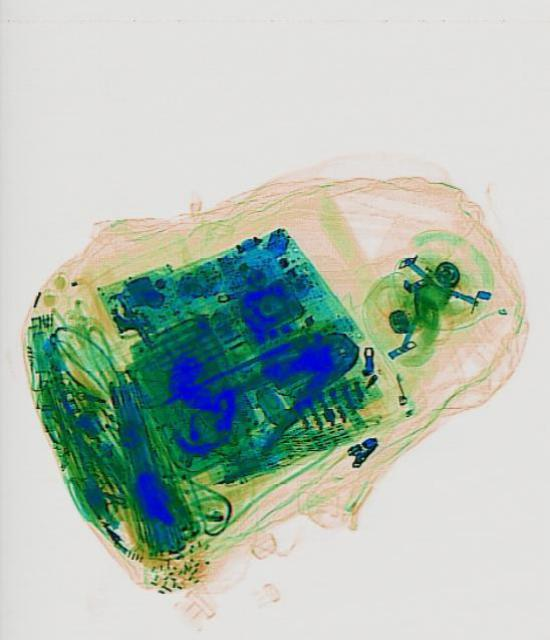Pliers: (204, 311, 376, 463)
